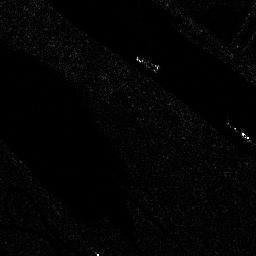ship: (225, 117, 254, 147), (134, 50, 162, 76)
